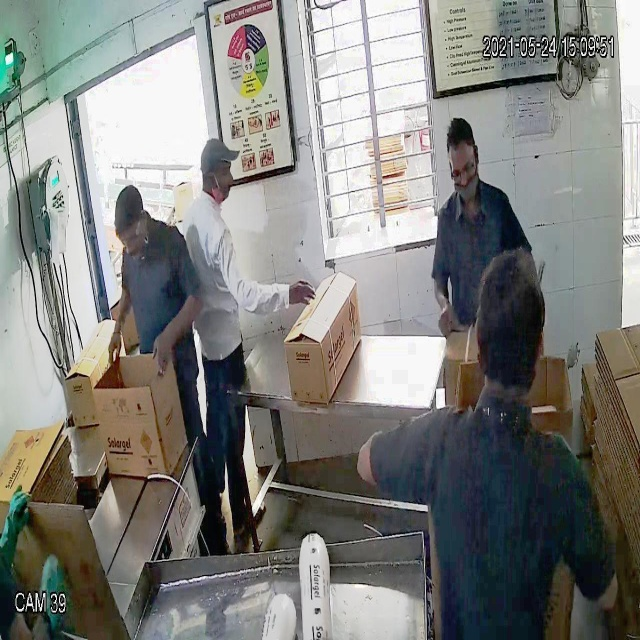Gafas: (445, 154, 478, 187)
Sin_gafas: (199, 161, 236, 187)
